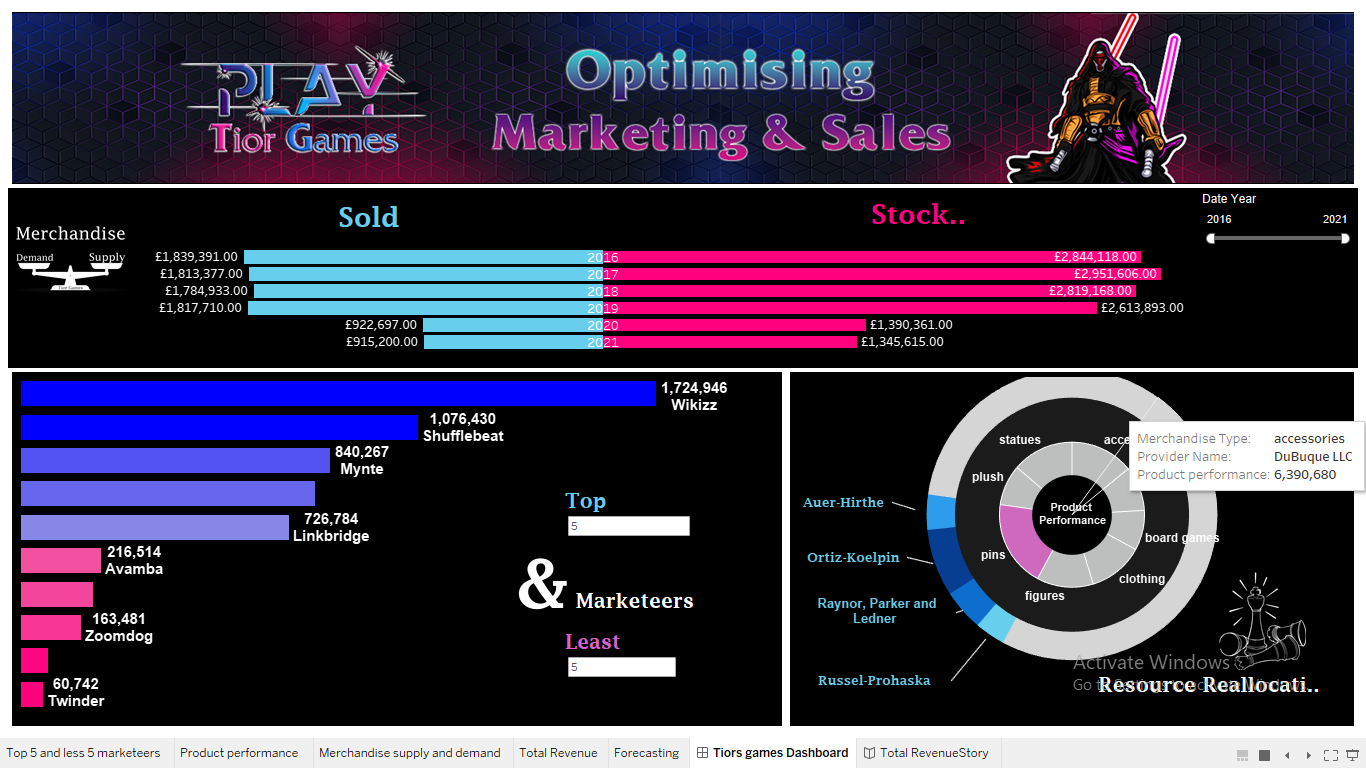

This screenshot's page, from the dashboard's own definition file:
{"tool":"tableau","page":{"name":"Tiors games Dashboard","canvas":[1000,1000],"units":"permille","ordinal":0},"visuals":[{"type":"image","box":[6,13.5,988.1,242.3]},{"type":"worksheet","title":"Merchandise supply and demand ","mark":"Bar","rows":["DateYear"],"cols":["MerchandiseSoldPND","Calculation_789818808482930692","MerchandiseStockedPND","Calculation_789818808482930692"],"box":[6,255.8,868.7,242.7]},{"type":"filter","title":"Merchandise supply and demand ","param":"[federated.03parnp07oxan91ctslp70lcujpr].[none:DateYear:qk]","box":[874.6,255.8,119.4,111.5]},{"type":"text","box":[633.5,270.1,78.3,40.2]},{"type":"text","box":[220.6,273.4,99.6,40.2]},{"type":"image","box":[8.7,300.7,86.6,145.3]},{"type":"worksheet","title":"Top 5 and less 5 marketeers","mark":"Automatic","rows":["MarketeerName"],"cols":["Calculation_581527325387366403"],"box":[6,498.5,569.6,488]},{"type":"worksheet","title":"Product performance (6)","mark":"Pie","box":[575.6,498.5,418.4,488]},{"type":"parameter","param":"[Parameters].[Parameter 1]","box":[413.9,662.2,93.5,94.6]},{"type":"text","box":[376,723.2,181.5,135]},{"type":"image","box":[892.6,774.6,88.4,133.9]},{"type":"parameter","param":"[Parameters].[Top 10 (copy)_946037420757442577]","box":[413.9,853,83.1,116.5]},{"type":"text","box":[801.3,898.4,167.3,58]}]}

Visuals, with their boxes on the dashboard's canvas, which has no fixed pixel size, in thousandths of its width and height (x1, y1, x2, y2). These are canvas units, not pixel positions in the 1366x768 screenshot, which may show the page scaled, cropped or inside an application window:
image: <bbox>6, 14, 994, 256</bbox>
"Merchandise supply and demand " worksheet (Bar marks): <bbox>6, 256, 875, 498</bbox>
"Merchandise supply and demand " filter: <bbox>875, 256, 994, 367</bbox>
text: <bbox>634, 270, 712, 310</bbox>
text: <bbox>221, 273, 320, 314</bbox>
image: <bbox>9, 301, 95, 446</bbox>
"Top 5 and less 5 marketeers" worksheet: <bbox>6, 498, 576, 986</bbox>
"Product performance (6)" worksheet (Pie marks): <bbox>576, 498, 994, 986</bbox>
parameter: <bbox>414, 662, 507, 757</bbox>
text: <bbox>376, 723, 558, 858</bbox>
image: <bbox>893, 775, 981, 908</bbox>
parameter: <bbox>414, 853, 497, 970</bbox>
text: <bbox>801, 898, 969, 956</bbox>
